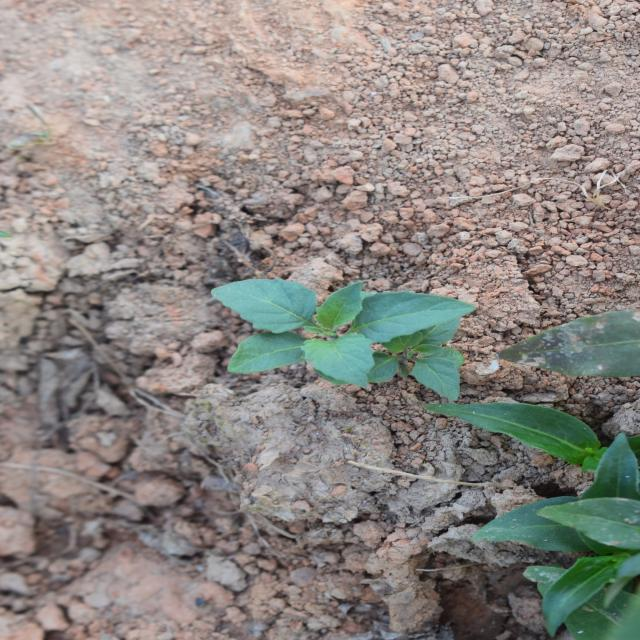Black_nightshade: (238, 217, 369, 478)
